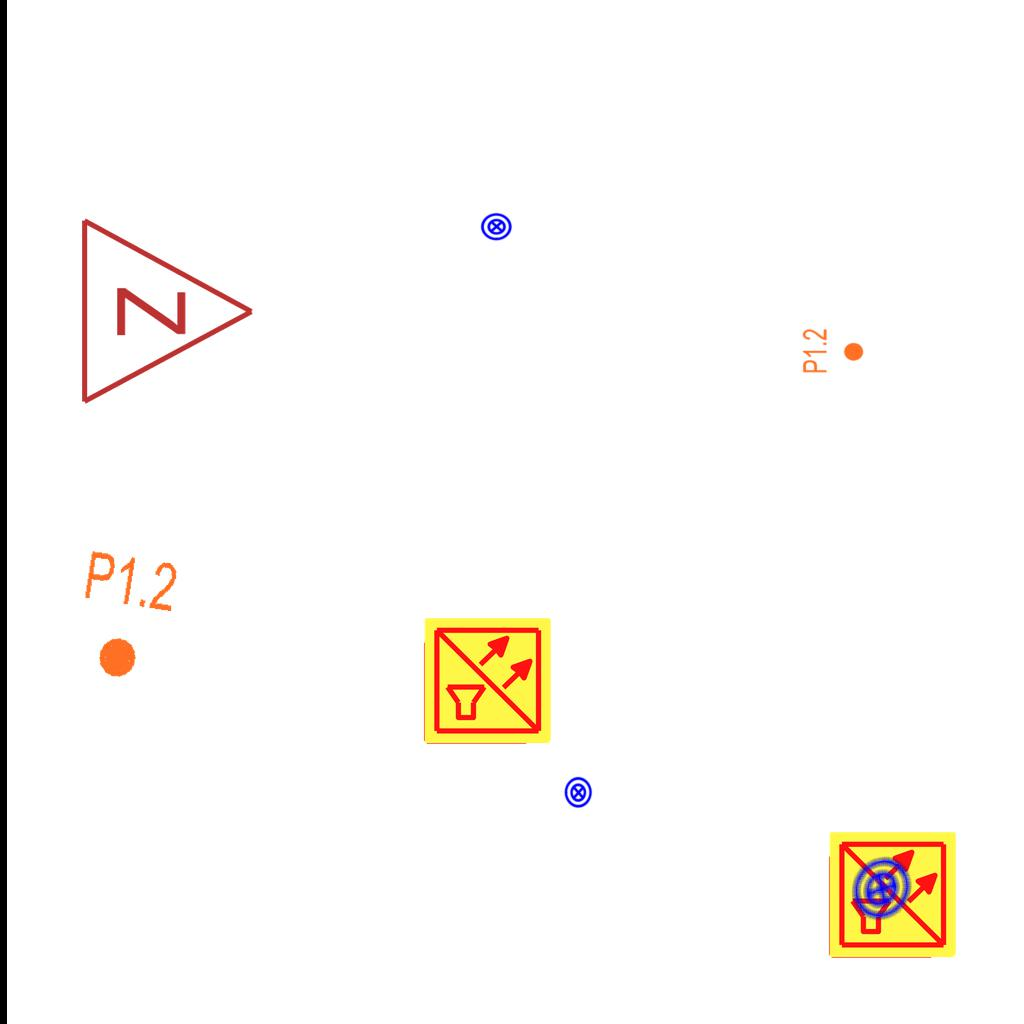Downlight_LED_Einbauleuchten_Flur: (69, 546, 182, 688), (801, 328, 865, 374)
OKW_Multisensormelder_(Kombination_optischer_Rauch-Kahlenmonoxid_Waerme-Melder): (422, 615, 554, 747), (827, 829, 959, 961)
Taster_beleuchtet: (837, 844, 927, 934), (562, 776, 595, 809), (480, 210, 513, 243)
Zimmersignalleuchte: (67, 211, 267, 407)
